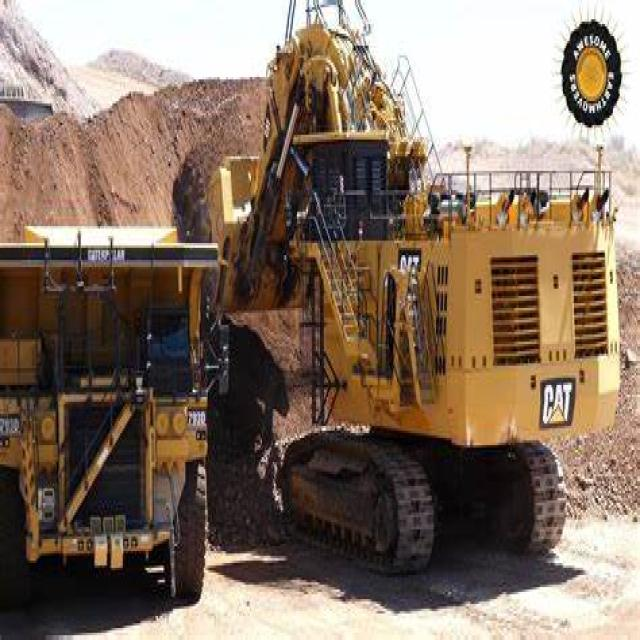dump_truck: (5, 214, 219, 628)
excavator: (190, 5, 639, 638)
